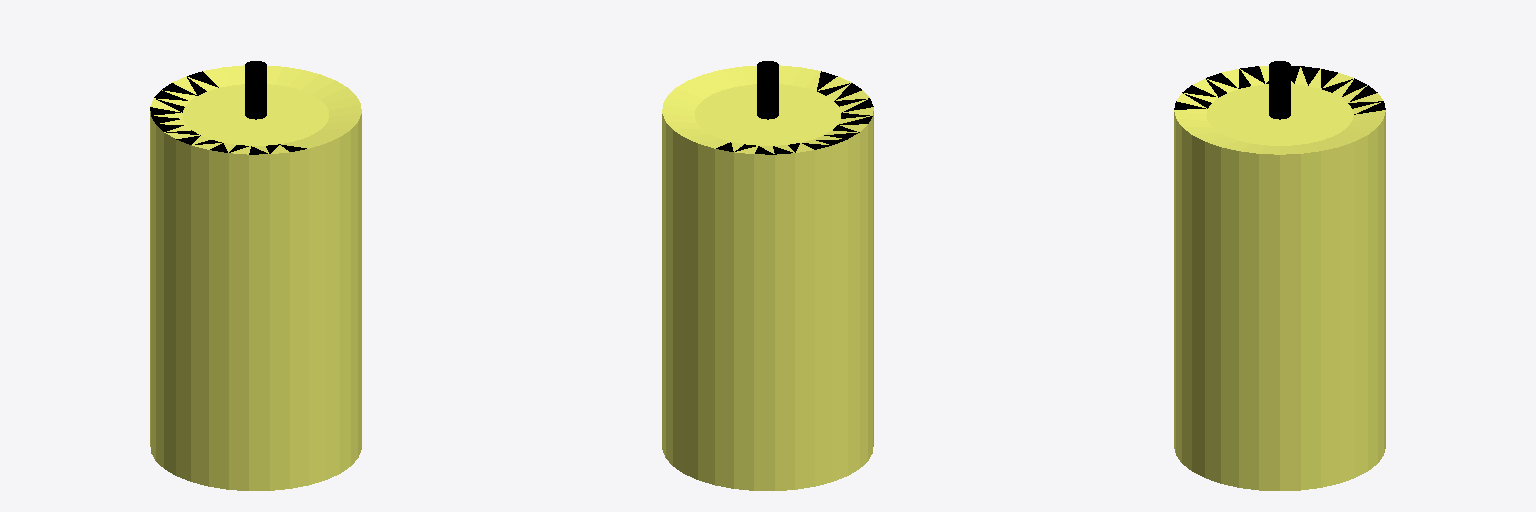
Rendered from candle.obj.
The picture shows the model from 3 angles: view 1: azimuth 30°, elevation 25°; view 2: azimuth 150°, elevation 25°; view 3: azimuth 270°, elevation 25°; orthographic projection.
Parts seen in each view (by area): view 1: Cylinder.001_Cylinder.002; view 2: Cylinder.001_Cylinder.002; view 3: Cylinder.001_Cylinder.002.
Boxes of the visible parts, box(x1,y1,x2,y2) form: Cylinder.001_Cylinder.002: box(150, 61, 361, 490); Cylinder.001_Cylinder.002: box(662, 61, 873, 490); Cylinder.001_Cylinder.002: box(1174, 61, 1385, 490).
Size of the model in its own units: 2 by 3.97 by 2.